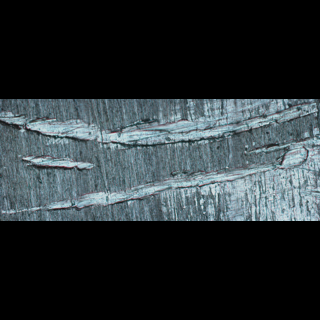d: (1, 128, 319, 219), (0, 99, 319, 149), (19, 151, 98, 174)
